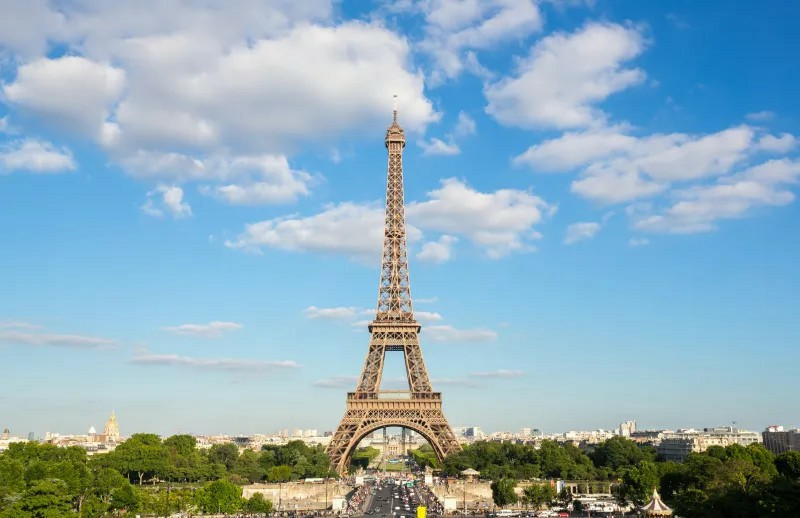Eiffel: (322, 94, 463, 476)
